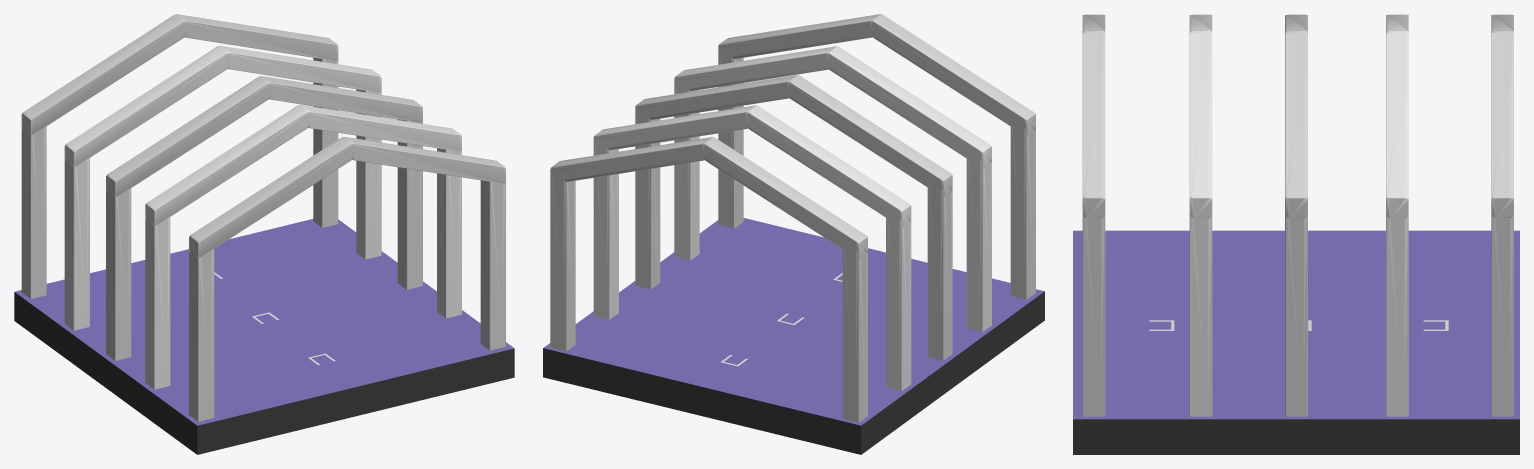
Rendered from road_3.fbx.
3 views of the same model, side by side, from view 1: azimuth 30°, elevation 25°; view 2: azimuth 150°, elevation 25°; view 3: azimuth 270°, elevation 25° (orthographic). The views are drawn at different scales.
Visible parts, largest first — view 1: Road.003, Cube.111, Cube.113, Cube.112, Cube.114, Cube.110; view 2: Road.003, Cube.110, Cube.114, Cube.112, Cube.113, Cube.111; view 3: Road.003, Cube.113, Cube.111, Cube.114, Cube.110, Cube.112.
Boxes of the visible parts, left/top/right/bottom form: Road.003: left=14, top=219, right=514, bottom=454; Cube.111: left=189, top=137, right=505, bottom=421; Cube.113: left=145, top=104, right=461, bottom=389; Cube.112: left=106, top=76, right=422, bottom=360; Cube.114: left=64, top=45, right=381, bottom=330; Cube.110: left=21, top=14, right=338, bottom=298; Road.003: left=543, top=218, right=1044, bottom=454; Cube.110: left=550, top=137, right=867, bottom=422; Cube.114: left=593, top=105, right=911, bottom=390; Cube.112: left=635, top=75, right=952, bottom=360; Cube.113: left=674, top=46, right=991, bottom=331; Cube.111: left=718, top=14, right=1035, bottom=299; Road.003: left=1073, top=230, right=1519, bottom=454; Cube.113: left=1189, top=14, right=1212, bottom=416; Cube.111: left=1082, top=14, right=1105, bottom=416; Cube.114: left=1385, top=14, right=1408, bottom=416; Cube.110: left=1491, top=14, right=1513, bottom=416; Cube.112: left=1285, top=14, right=1307, bottom=416.
Size of the model in its own units: 800 by 651 by 800.
